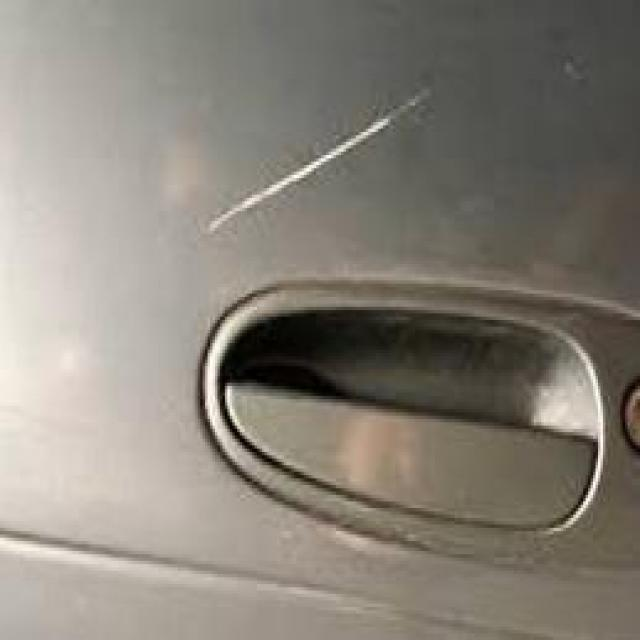scratch: (150, 66, 448, 277)
